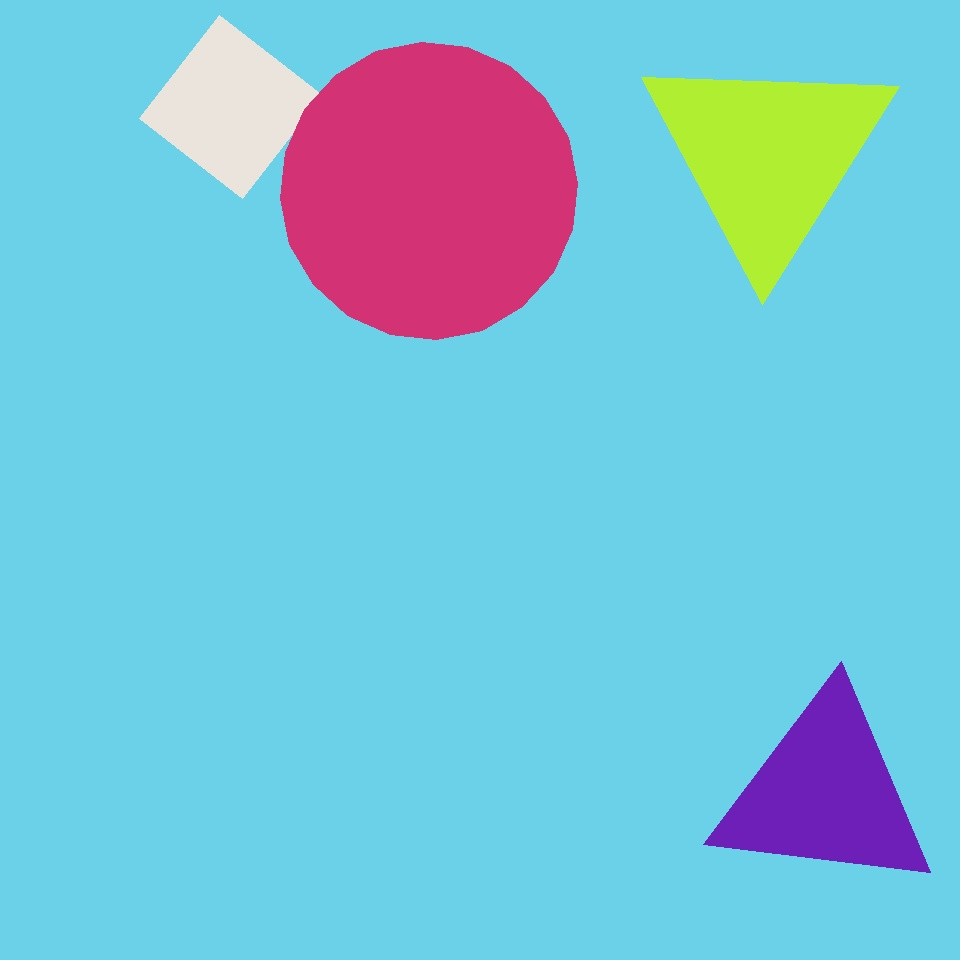circle: (639, 43, 897, 270), (712, 688, 938, 898)
square: (140, 16, 322, 198)
triangle: (281, 42, 578, 340)
